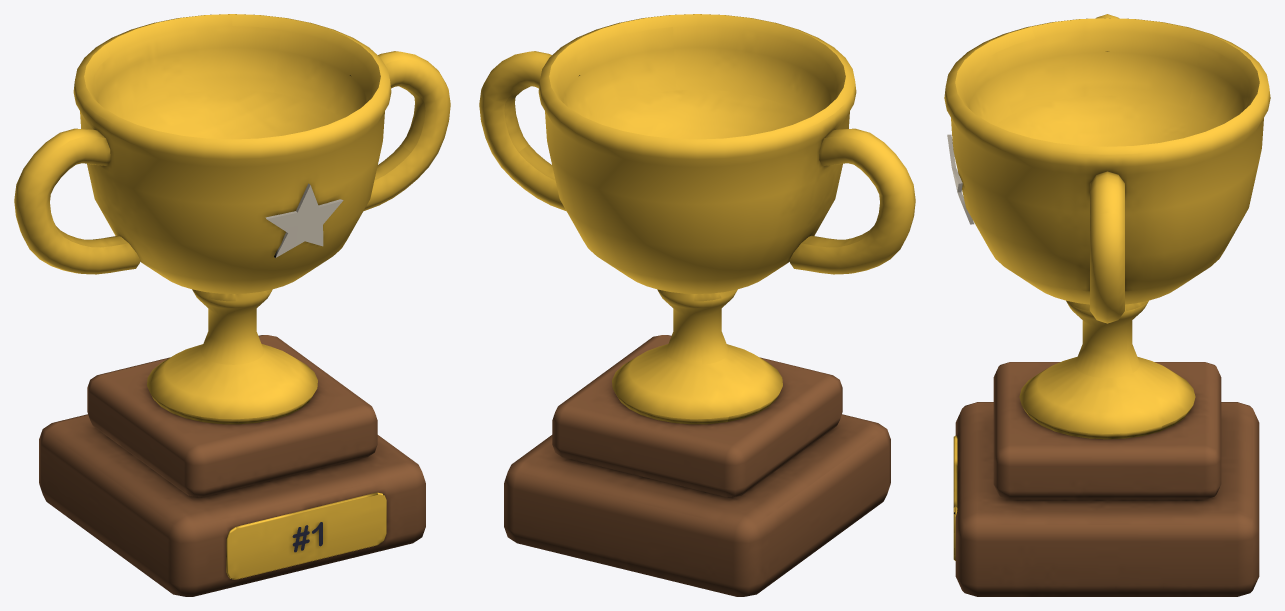
File: trophy.glb
3 views of the same model, side by side, from view 1: azimuth 30°, elevation 25°; view 2: azimuth 150°, elevation 25°; view 3: azimuth 270°, elevation 25° (orthographic). The views are drawn at different scales.
Parts seen in each view (by area): view 1: trophy; view 2: trophy; view 3: trophy.
Boxes of the visible parts, box(x1,y1,x2,y2) form: trophy: box(14, 14, 450, 596); trophy: box(479, 14, 915, 596); trophy: box(944, 14, 1270, 596).
Bounding box in the file's own units: 0.1889 × 0.1868 × 0.1204.
4 materials, 4 textured.
